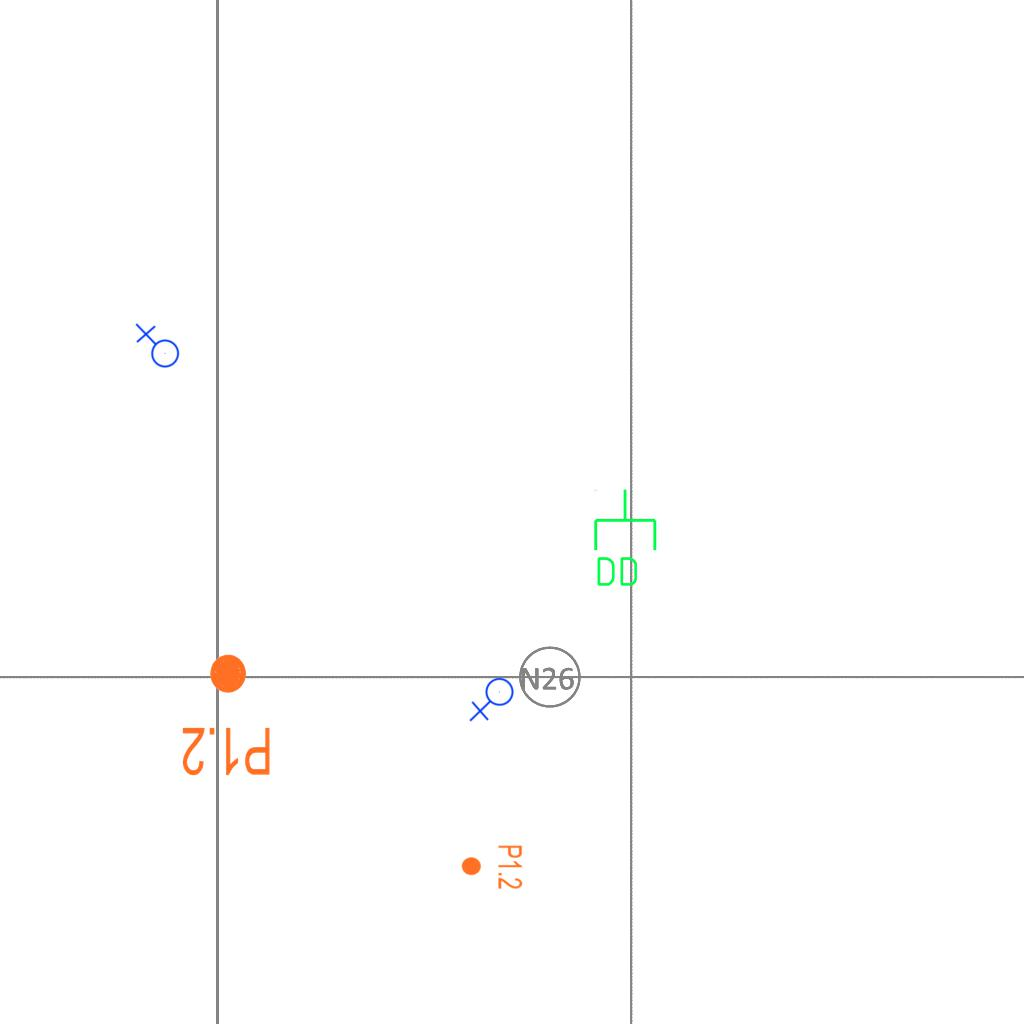Datenanschluss_zweifach: (590, 487, 659, 590)
Downlight_LED_Einbauleuchten_Flur: (180, 651, 273, 779), (460, 844, 524, 890)
Elektroanschluss_allgemein_230V_Geraeteanschlussdose_230V: (469, 677, 518, 724), (133, 323, 180, 372)
